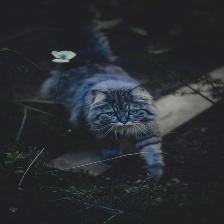kedo: (90, 87, 165, 177)
